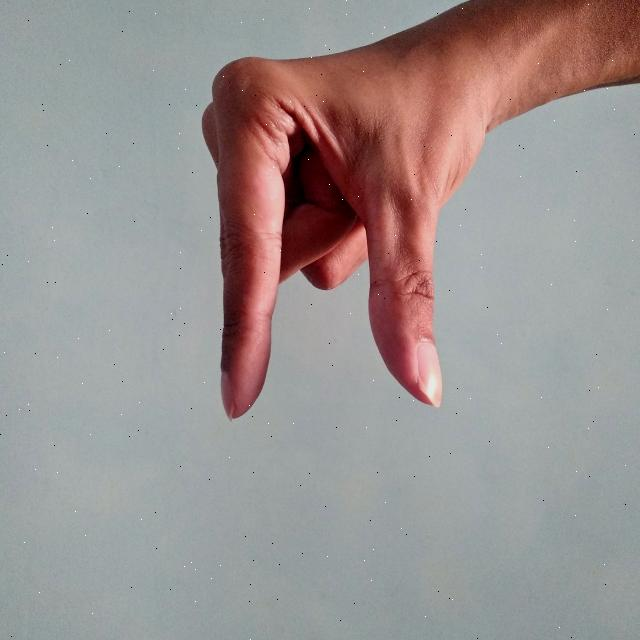Q: (171, 0, 534, 444)
